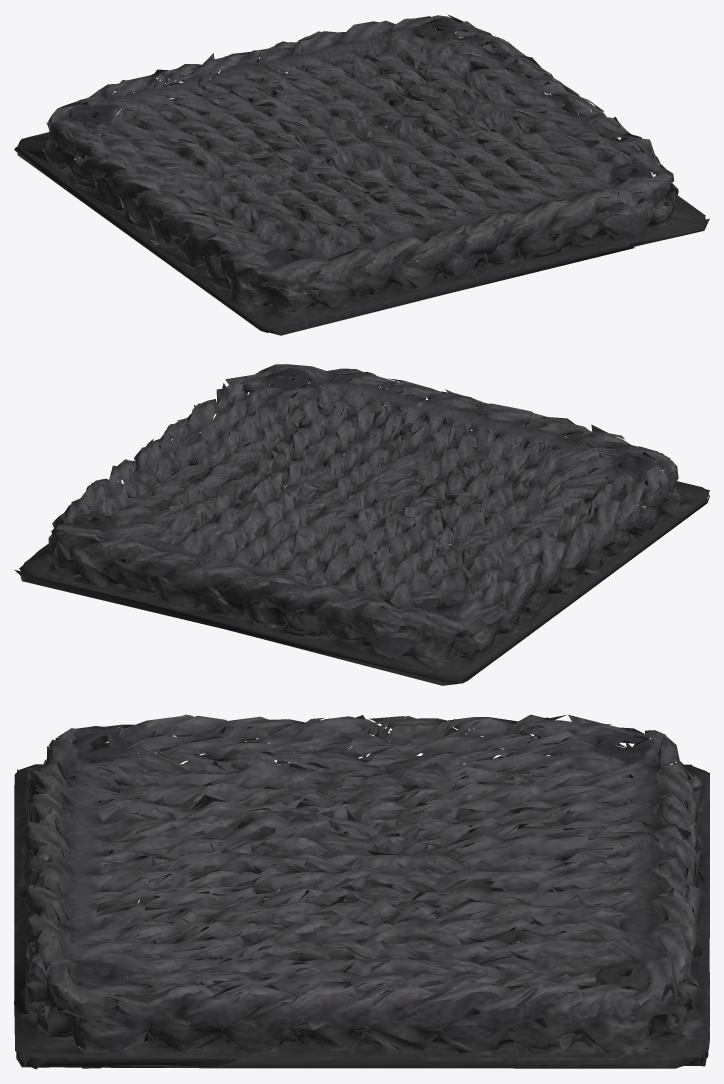
The model's file is piece_panel_yarn.glb.
The picture shows the model from 3 angles, top to bottom: view 1: azimuth 30°, elevation 25°; view 2: azimuth 150°, elevation 25°; view 3: azimuth 270°, elevation 25°; orthographic projection. The views are drawn at different scales.
Parts seen in each view (by area): view 1: trait_panel_yarn; view 2: trait_panel_yarn; view 3: trait_panel_yarn.
Part boxes in pixels (x1=…): trait_panel_yarn: x1=14, y1=14, x2=709, y2=335; trait_panel_yarn: x1=14, y1=364, x2=709, y2=685; trait_panel_yarn: x1=14, y1=714, x2=709, y2=1069.
Bounding box in the file's own units: 0.2884 × 0.0464 × 0.2868.
Materials: 1 (1 with a texture image).
